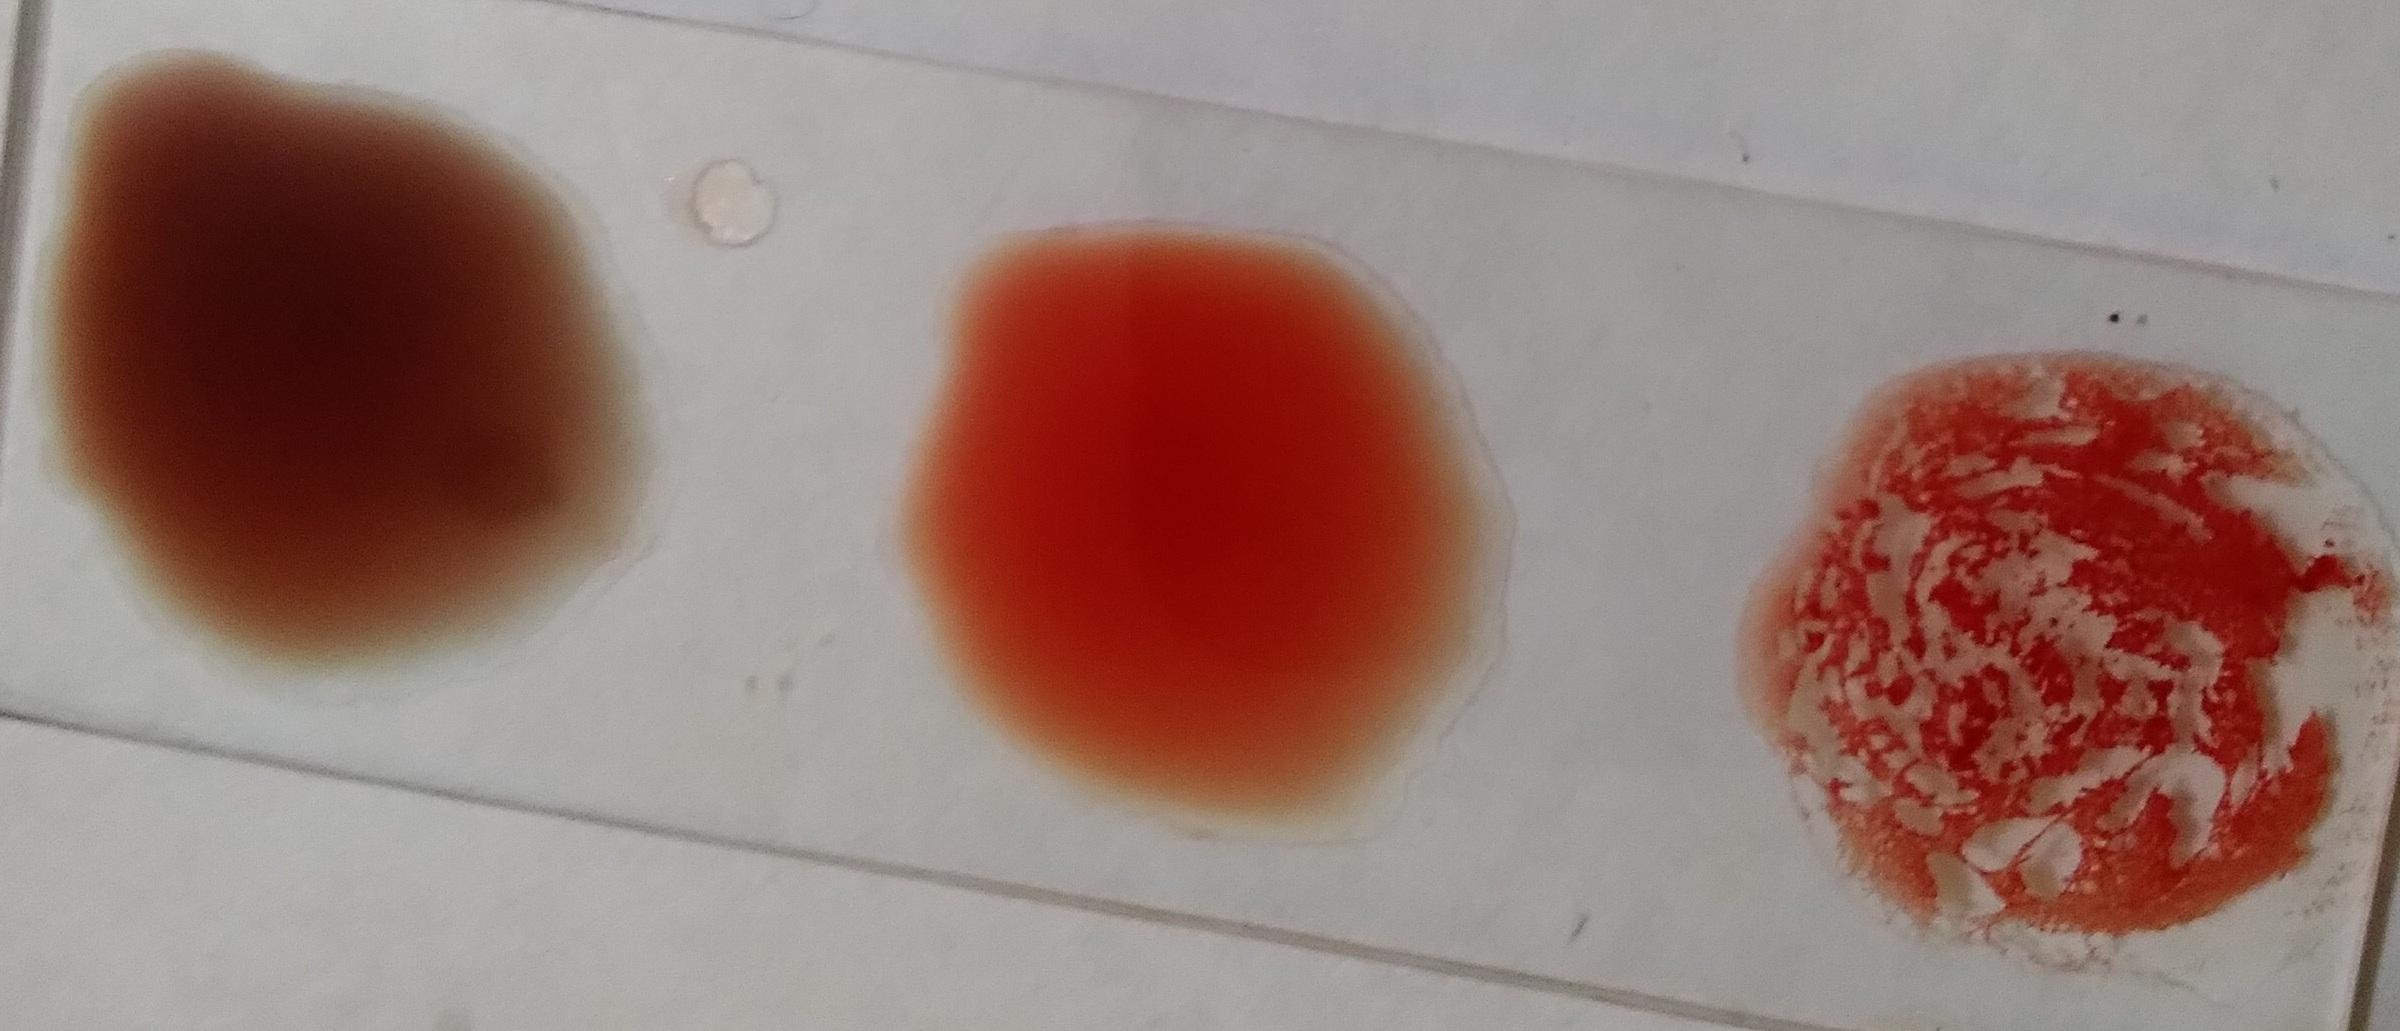D: (1779, 338, 2366, 964)
